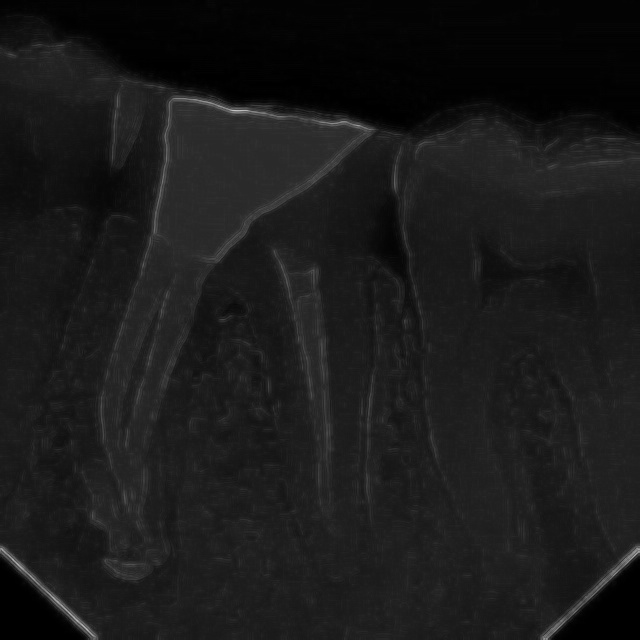Class 0- No endodontic treatment: (82, 194, 410, 612)
cavity: (390, 161, 640, 602)
